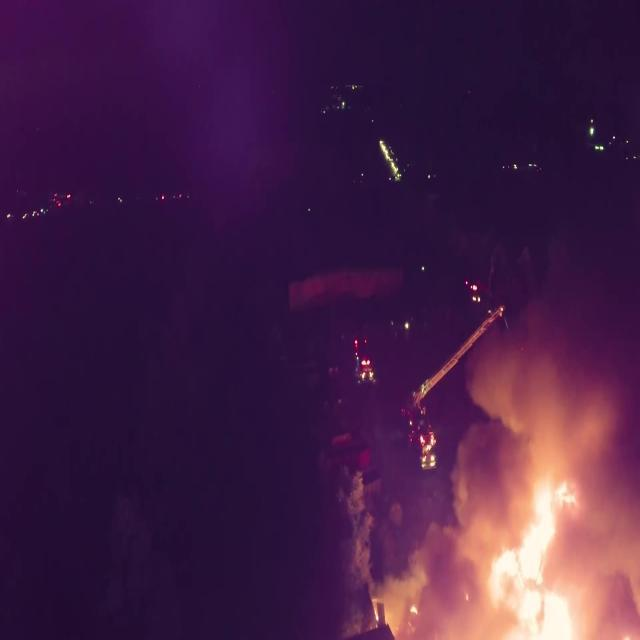Fire: (492, 486, 594, 640)
Smoke: (380, 310, 640, 640)
